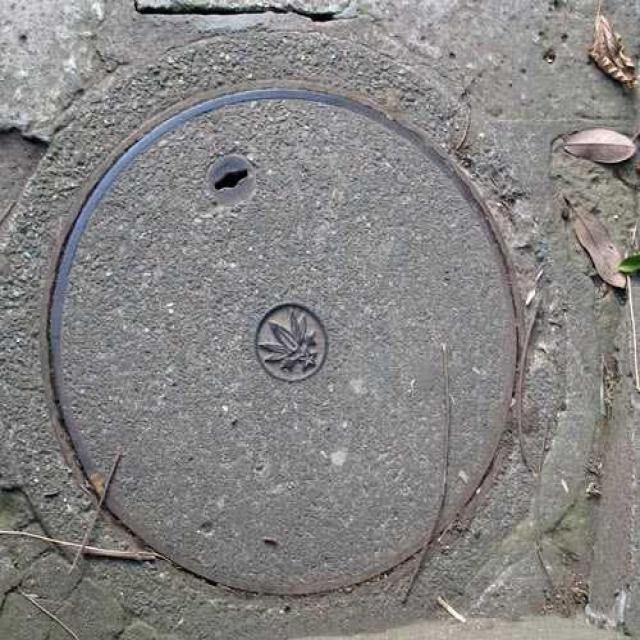manhole: (46, 89, 514, 593)
